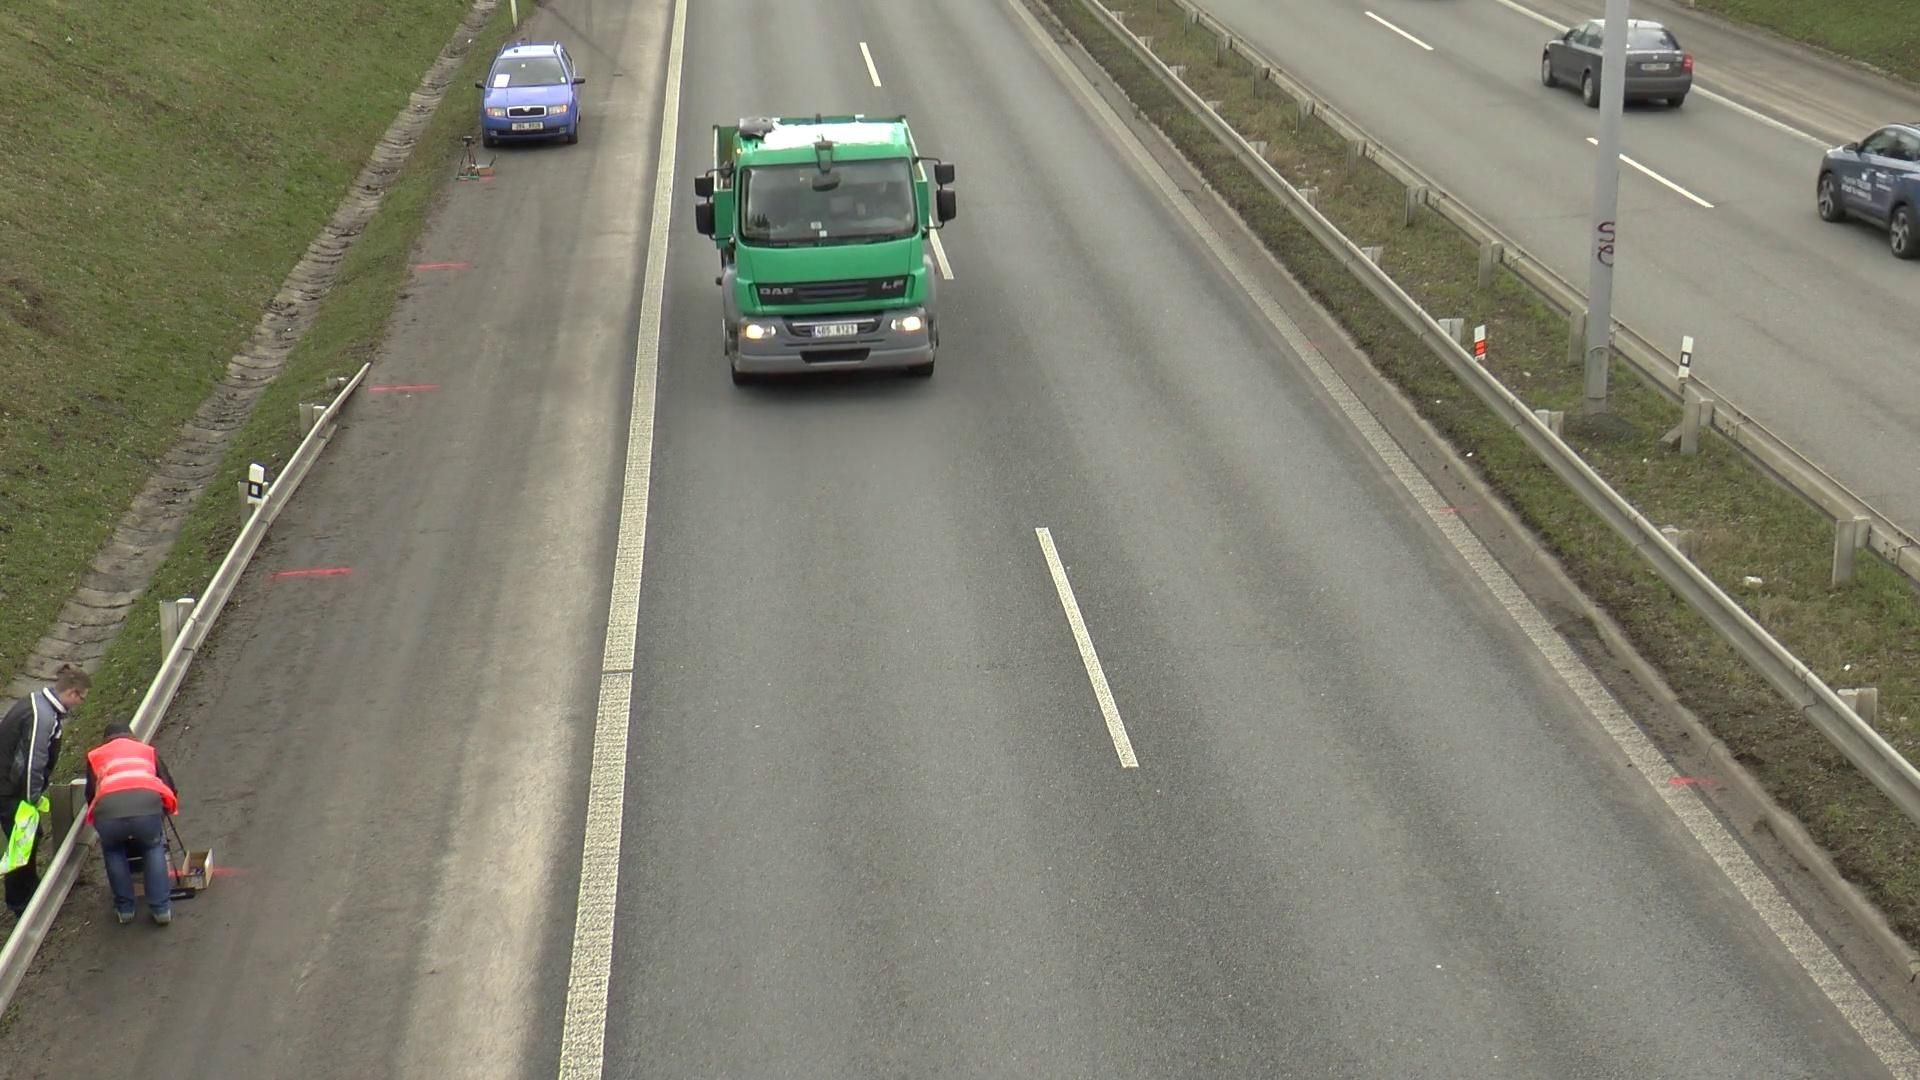Car: (1542, 16, 1686, 116), (476, 28, 589, 155), (1816, 114, 1918, 254)
Human: (82, 730, 197, 937), (0, 664, 80, 905)
Lorry: (702, 96, 958, 412)
